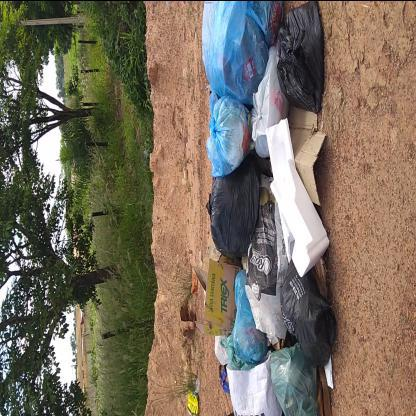lixo: (204, 0, 324, 414)
